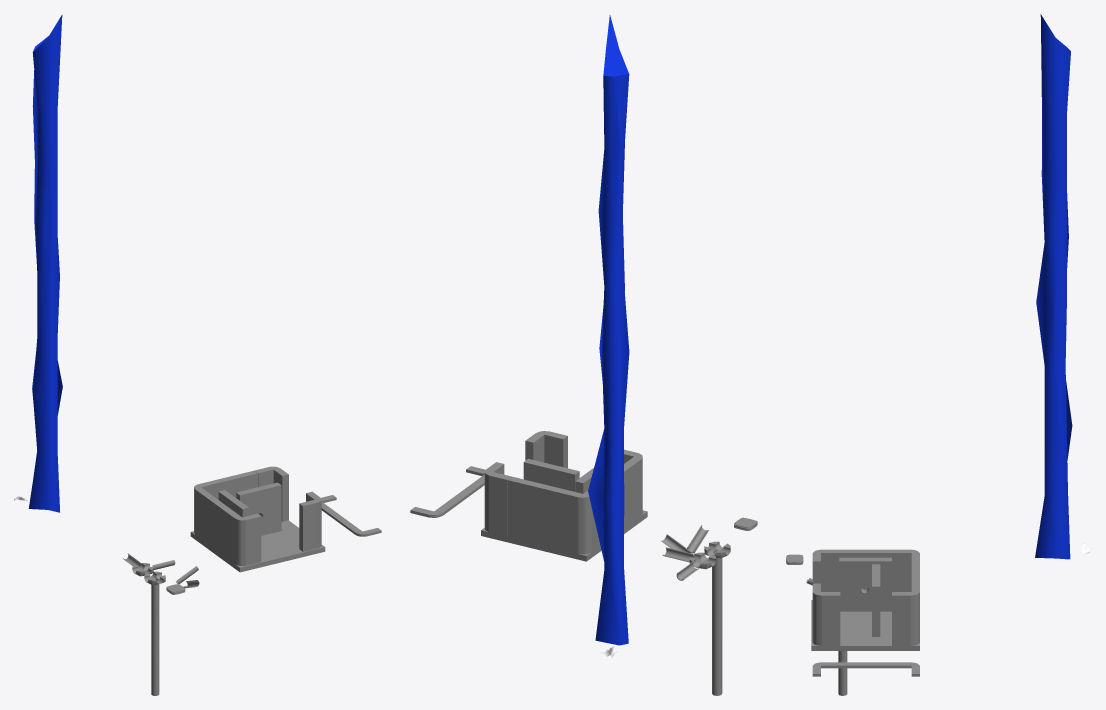
The model's file is FinalComponent2.FBX.
3 renders of one model, left to right at view 1: azimuth 30°, elevation 25°; view 2: azimuth 150°, elevation 25°; view 3: azimuth 270°, elevation 25°, orthographic. The views are drawn at different scales.
Visible parts, largest first — view 1: Line169, Box005, Line182, Line172, Line171, Line181, Tube010, Line178, Line175, Line179; view 2: Line169, Line175, Line179, Line178, Tube010, Line181, Line172, Box005, Line182; view 3: Line169, Line174, Box005, Line181, Line178, Line182, Line179, Line172, Line171.
Part boxes in pixels (x1,y1,x2,y2): Line169: (28,14,62,512); Box005: (190,520,325,572); Line182: (227,511,261,565); Line172: (236,482,281,535); Line171: (203,494,232,558); Line181: (299,491,321,551); Tube010: (151,578,159,695); Line178: (254,466,288,521); Line175: (213,470,257,499); Line179: (194,481,216,540); Line169: (588,15,629,645); Line175: (508,477,563,549); Line179: (559,489,600,554); Line178: (484,462,511,536); Tube010: (712,550,722,695); Line181: (525,431,567,468); Line172: (523,458,579,491); Box005: (481,510,647,561); Line182: (624,449,642,522); Line169: (1035,14,1072,559); Line174: (839,557,891,611); Box005: (811,600,919,650); Line181: (812,583,840,645); Line178: (892,583,919,645); Line182: (812,549,840,591); Line179: (892,549,919,591); Line172: (872,564,880,636); Line171: (840,549,891,589).
Size of the model in its own units: 1110 by 2689 by 1099.
